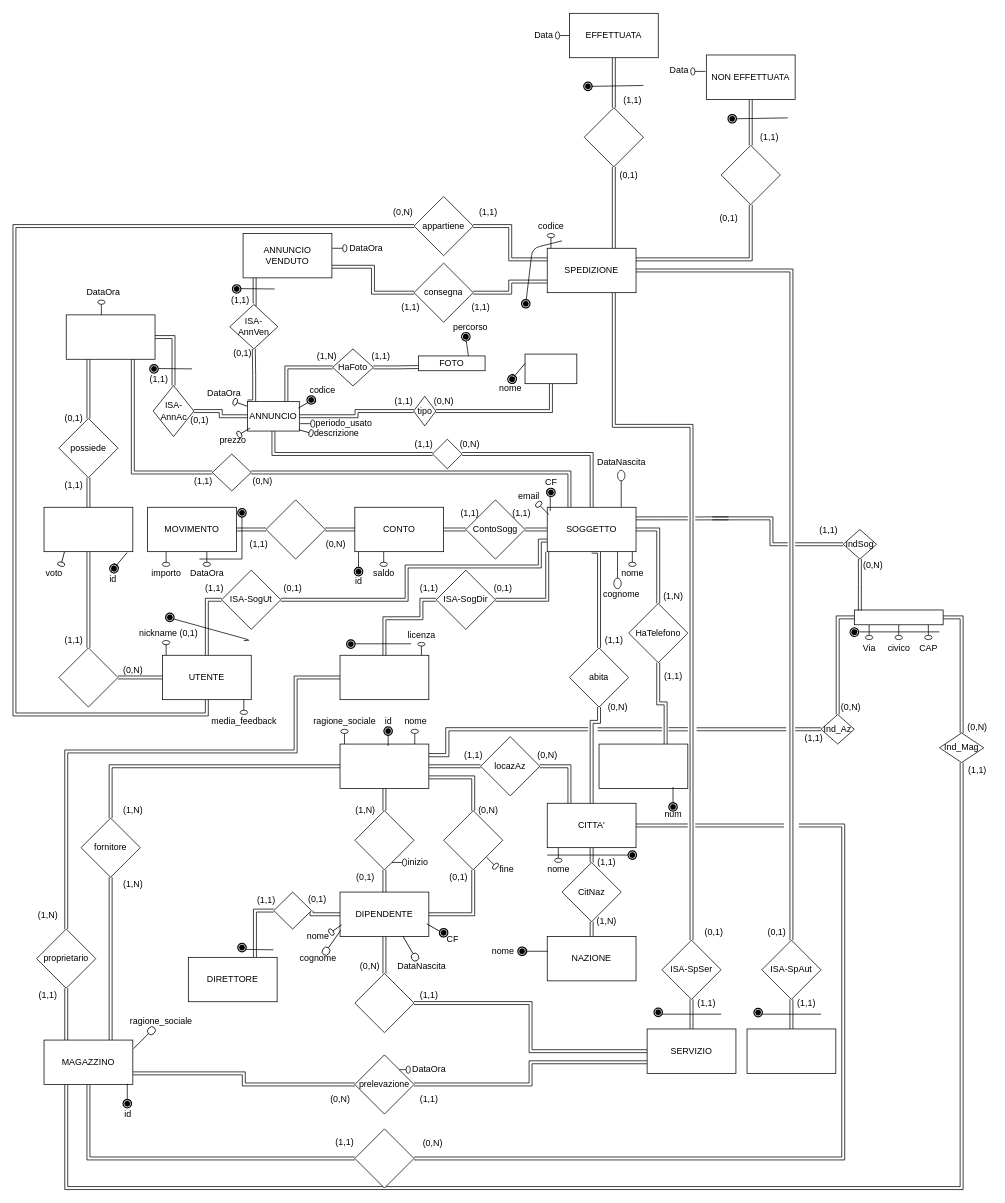
The diagram is 1005 pixels wide and 1203 high, and some of its shapes have lost their labels. Here are the shapes that lost their labels. From the top down, the box of each, then its label:
(583, 107, 643, 167): ISA-SpEff
(720, 145, 780, 205): ISA-SpN
(65, 314, 155, 359): ANNUNCIO ACQUISTATO
(524, 353, 577, 384): CATEGORIA
(212, 453, 251, 491): compra
(432, 438, 462, 469): ordine
(43, 507, 133, 552): FEEDBACK
(265, 499, 325, 559): ContMov
(854, 609, 943, 625): INDIRIZZO
(58, 647, 118, 707): generato
(339, 655, 429, 700): DIRETTORE MAGAZZINO
(339, 743, 429, 788): AZIENDA
(598, 743, 688, 788): TELEFONO
(354, 810, 414, 870): impiegato corrente
(443, 810, 503, 870): impiegato passato
(273, 891, 312, 929): ISA-Dip
(354, 973, 414, 1033): fornito
(746, 1028, 836, 1073): AUTONOMA
(354, 1128, 414, 1188): CitMag
